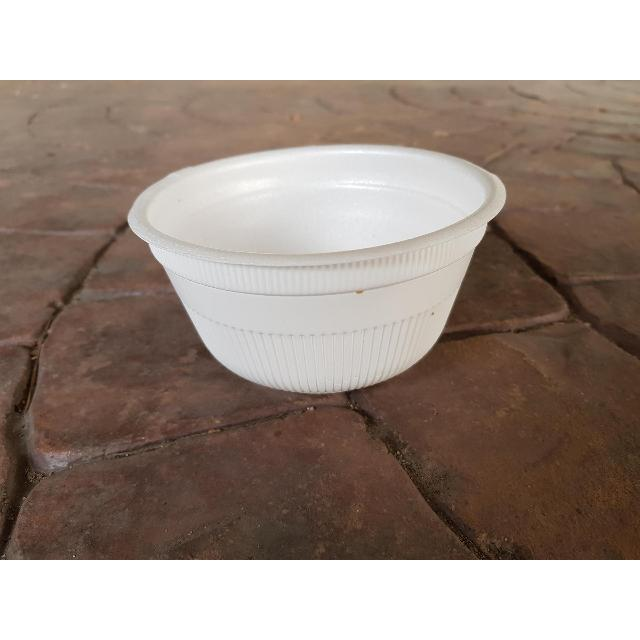Recipiente plastico: (128, 145, 506, 392)
